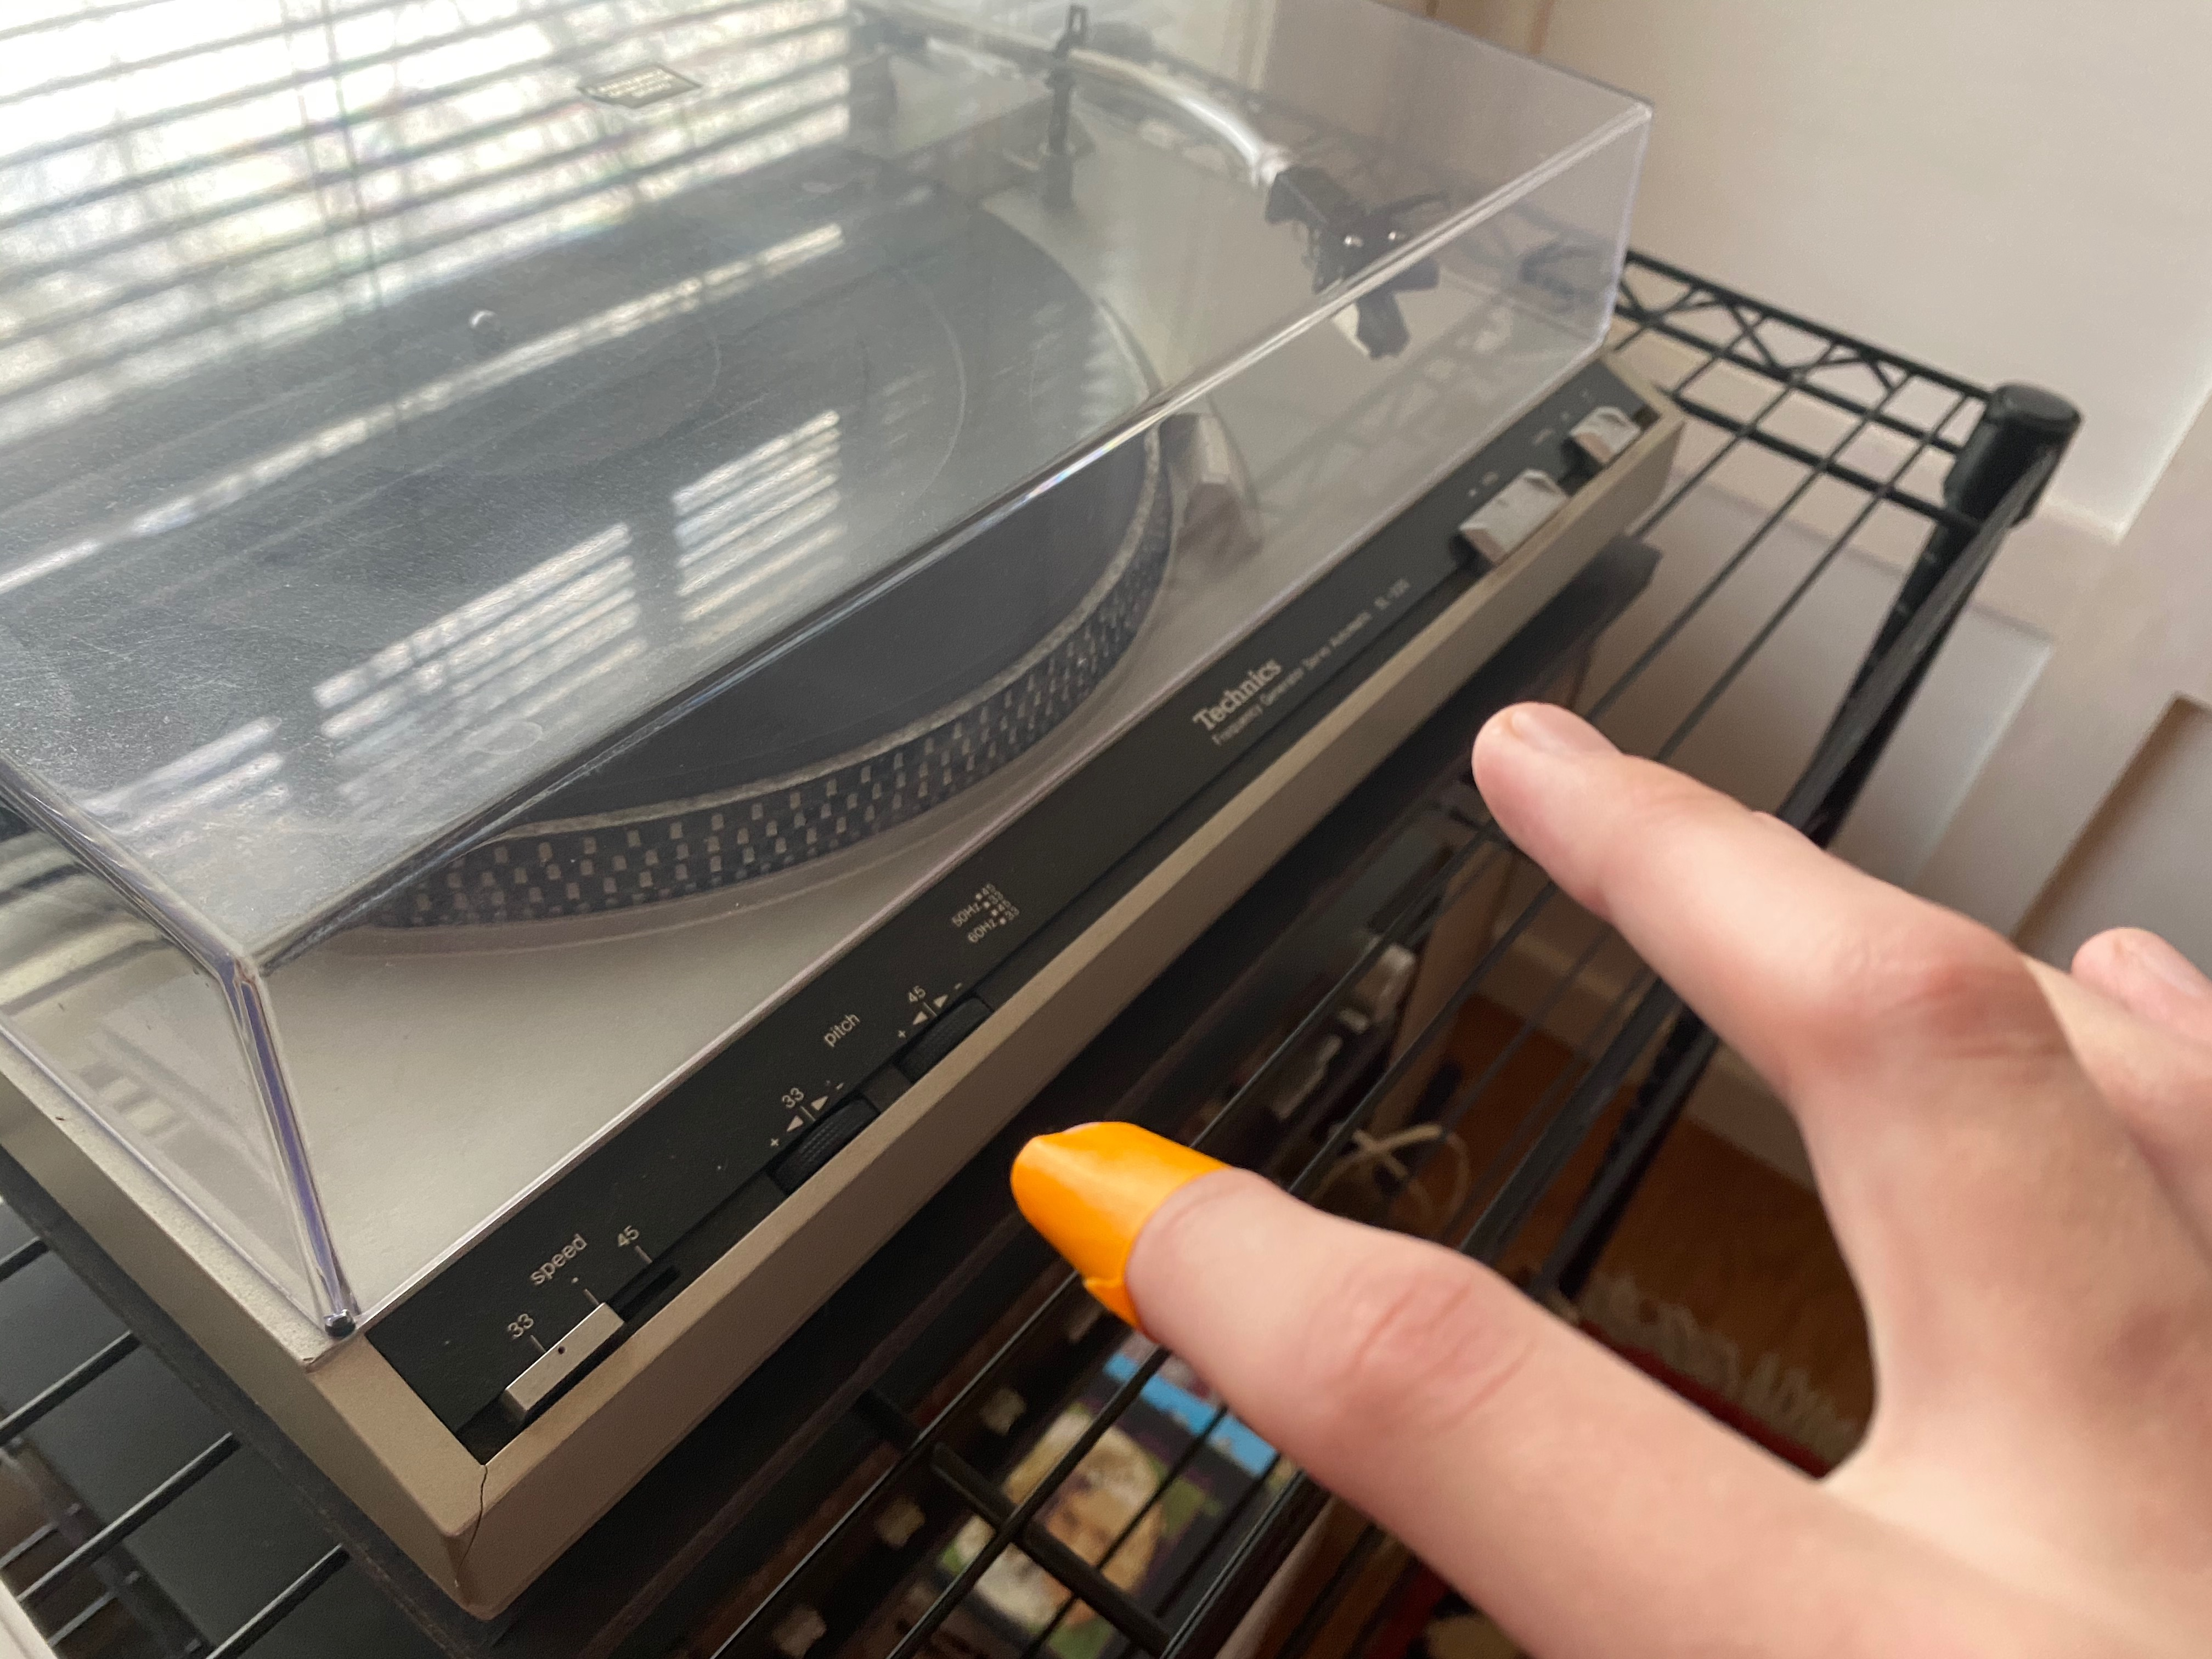fingertip: (991, 1089, 1289, 1345)
